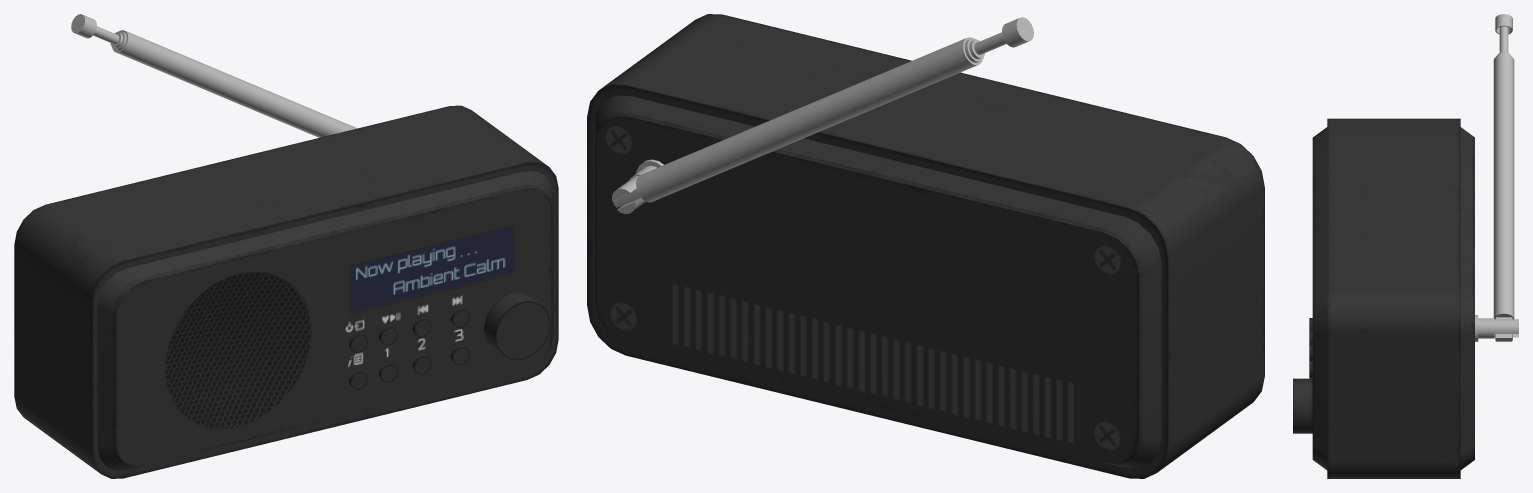
The model's file is Radio.fbx.
3 renders of one model, left to right at view 1: azimuth 30°, elevation 25°; view 2: azimuth 150°, elevation 25°; view 3: azimuth 270°, elevation 25°, orthographic. The views are drawn at different scales.
Visible parts, largest first — view 1: Radio_Body_low, Reciever_low, Big_knob_low; view 2: Radio_Body_low, Reciever_low, Reciever_Rotate_low; view 3: Radio_Body_low, Reciever_low, Big_knob_low, Reciever_Rotate_low.
Boxes of the visible parts, x1=… form: Radio_Body_low: x1=14, y1=105, x2=558, y2=478; Reciever_low: x1=71, y1=14, x2=357, y2=137; Big_knob_low: x1=484, y1=292, x2=550, y2=360; Radio_Body_low: x1=587, y1=14, x2=1264, y2=478; Reciever_low: x1=612, y1=17, x2=1033, y2=207; Reciever_Rotate_low: x1=612, y1=159, x2=663, y2=213; Radio_Body_low: x1=1312, y1=118, x2=1474, y2=478; Reciever_low: x1=1493, y1=14, x2=1514, y2=341; Big_knob_low: x1=1293, y1=378, x2=1312, y2=433; Reciever_Rotate_low: x1=1475, y1=315, x2=1518, y2=341.
Bounding box in the file's own units: 900 × 688 × 441.
